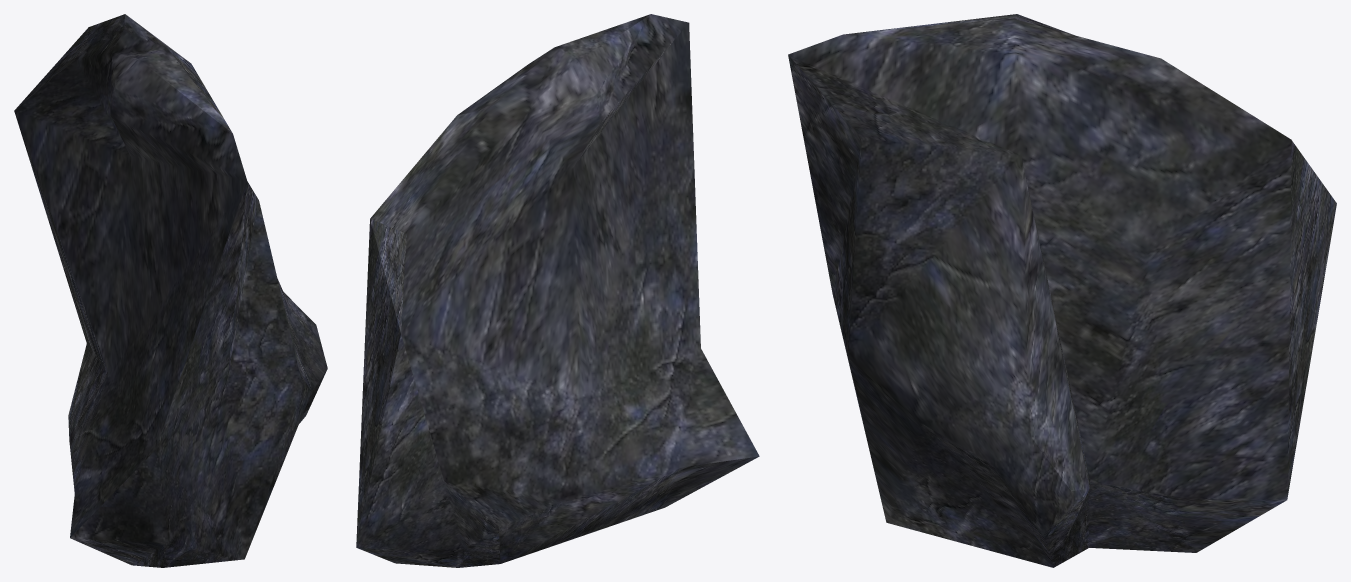
File: pir_m_prp_vol_rock_e.fbx
3 renders of one model, left to right at view 1: azimuth 30°, elevation 25°; view 2: azimuth 150°, elevation 25°; view 3: azimuth 270°, elevation 25°, orthographic. The views are drawn at different scales.
Visible parts, largest first — view 1: lod_high; view 2: lod_high; view 3: lod_high.
Part boxes in pixels (box(x1,y1,x2,y2)): lod_high: box(14, 14, 327, 567); lod_high: box(356, 14, 759, 567); lod_high: box(788, 14, 1336, 567).
Bounding box in the file's own units: 3977 × 5656 × 5666.
Materials: 1 (1 with a texture image).
